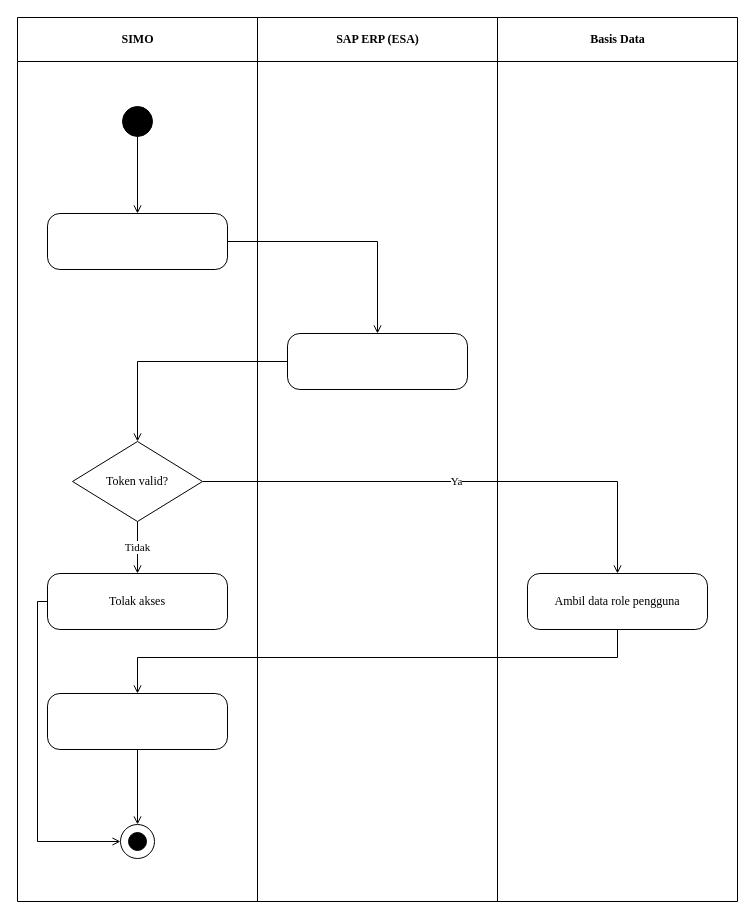
The diagram is 755 pixels wide and 919 high, and some of its shapes have lost their labels. Each missing label, with the box of its shape:
Terima token dari ESA: (46, 212, 228, 270)
Tetapkan hak akses (RBAC): (46, 692, 228, 750)
Verifikasi keabsahan token: (286, 332, 468, 390)
